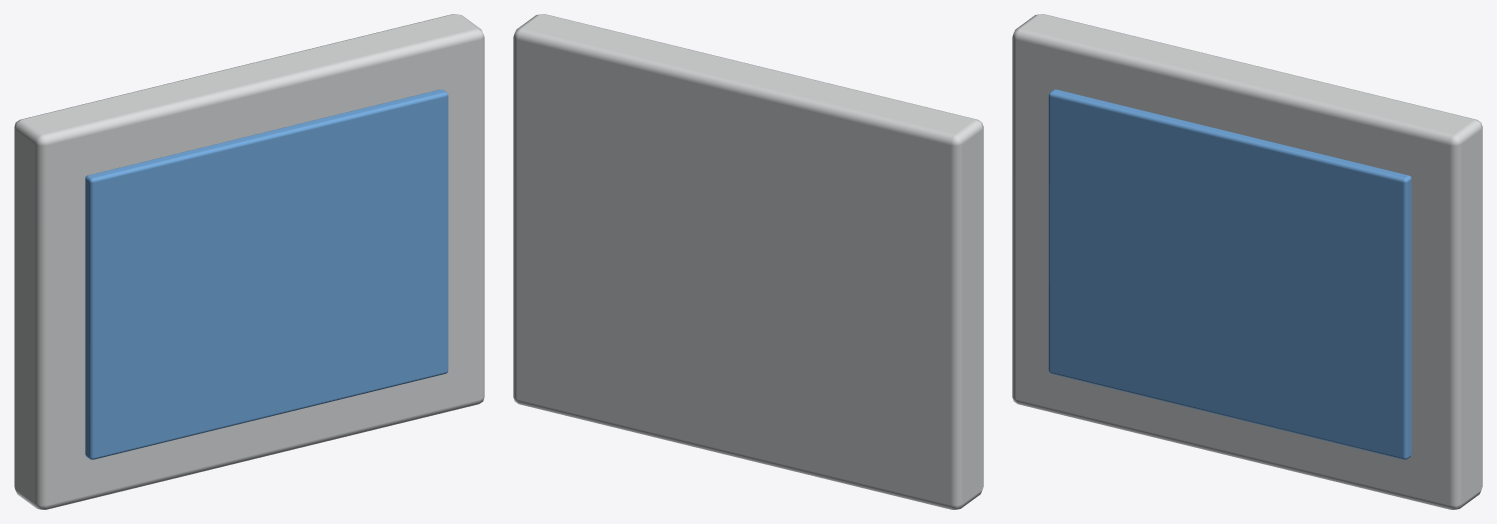
File: living-picture.glb
3 renders of one model, left to right at view 1: azimuth 30°, elevation 25°; view 2: azimuth 150°, elevation 25°; view 3: azimuth 330°, elevation 25°, orthographic.
Parts seen in each view (by area): view 1: art, frame; view 2: frame; view 3: art, frame.
Boxes of the visible parts, x1,y1,x2,y2 form: art: (85,89,448,459); frame: (14,14,484,509); frame: (513,14,983,509); art: (1048,89,1411,459); frame: (1012,14,1482,509).
Bounding box in the file's own units: 0.9 × 0.72 × 0.1225.
